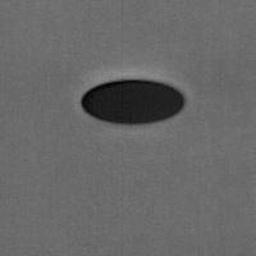Punching: (82, 79, 184, 124)
